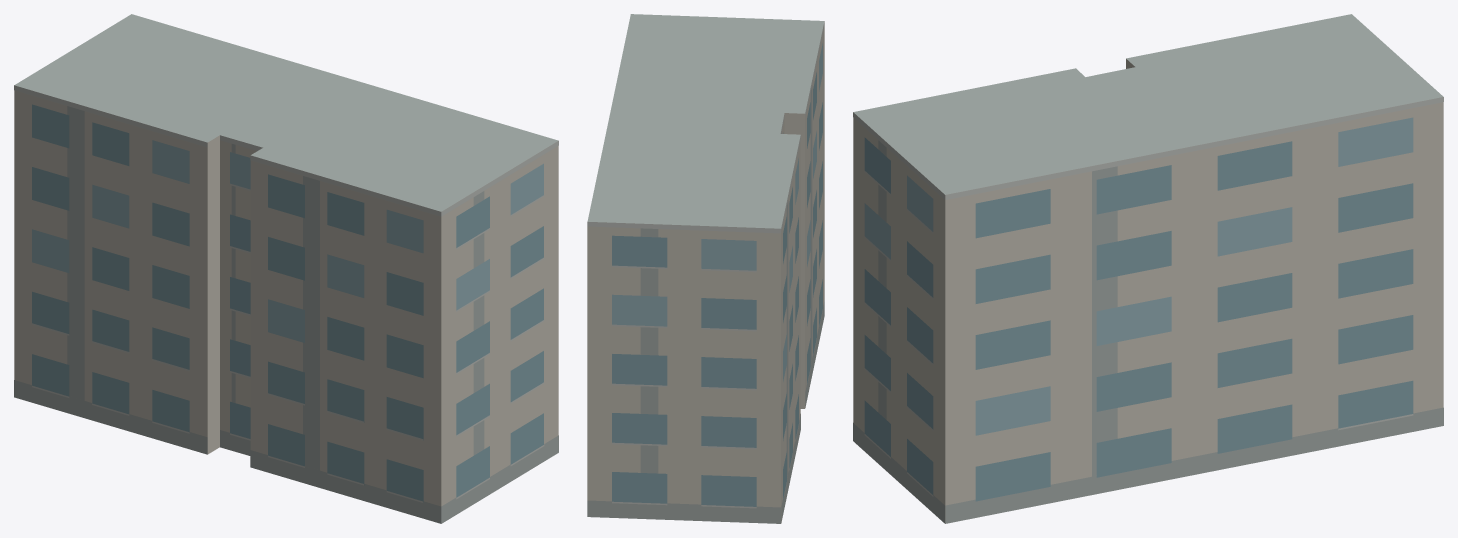
File: survey-upis-32673133.glb
The picture shows the model from 3 angles, left to right: view 1: azimuth 30°, elevation 25°; view 2: azimuth 150°, elevation 25°; view 3: azimuth 270°, elevation 25°; orthographic projection. The views are drawn at different scales.
Parts seen in each view (by area): view 1: survey-upis-32673133.tmp; view 2: survey-upis-32673133.tmp; view 3: survey-upis-32673133.tmp.
Part boxes in pixels (box(x1,y1,x2,y2)): survey-upis-32673133.tmp: box(14, 14, 558, 523); survey-upis-32673133.tmp: box(587, 14, 824, 523); survey-upis-32673133.tmp: box(853, 14, 1443, 523).
Bounding box in the file's own units: 18 × 15.25 × 24.82.
